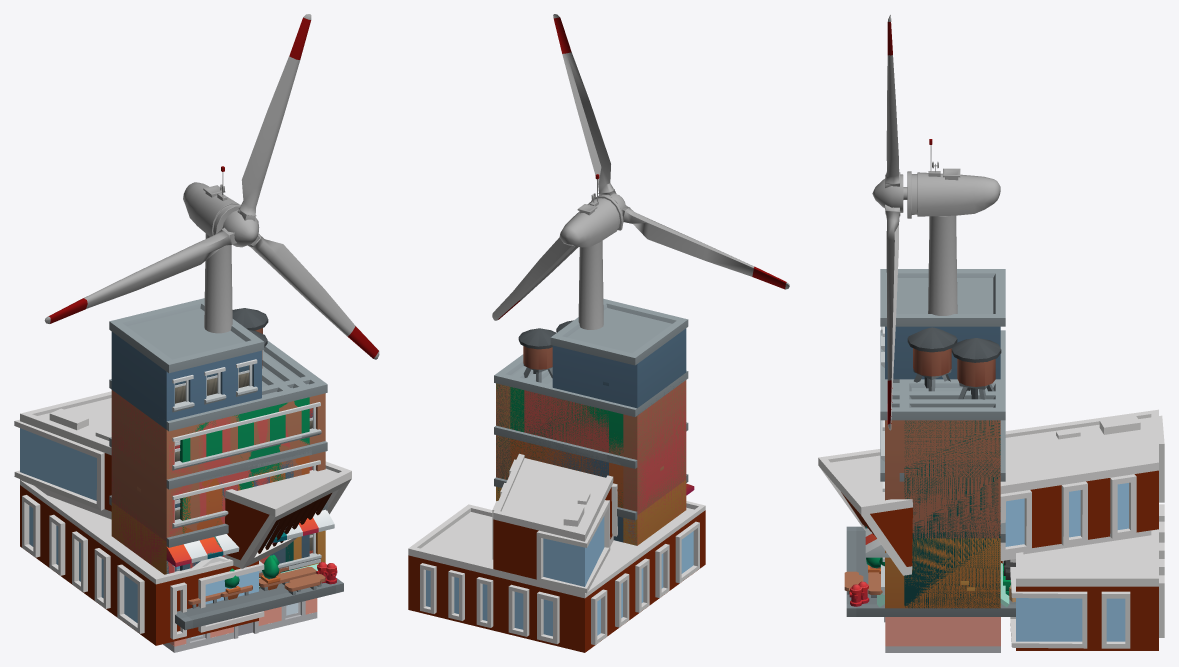
The model's file is buildings.glb.
The picture shows the model from 3 angles, left to right: view 1: azimuth 30°, elevation 25°; view 2: azimuth 150°, elevation 25°; view 3: azimuth 270°, elevation 25°; orthographic projection. The views are drawn at different scales.
Parts seen in each view (by area): view 1: Library_large, building_E, building_H, Wind_turbine_001_Blades, building_F, building_D, building_A, Wind_turbine_001, building_C, building_B, house_type01, building_G; view 2: Library_large, building_H, building_E, Wind_turbine_001_Blades, building_F, Wind_turbine_001, building_C, building_D, building_B, building_G, building_A; view 3: Library_large, building_E, building_G, building_H, Wind_turbine_001, house_type01, Wind_turbine_001_Blades, building_D, building_A, building_C, building_F.
Boxes of the visible parts, box(x1,y1,x2,y2) form: Library_large: box(14, 391, 351, 645); building_E: box(109, 341, 334, 574); building_H: box(109, 298, 325, 591); Wind_turbine_001_Blades: box(44, 14, 379, 359); building_F: box(110, 342, 327, 608); building_D: box(180, 330, 320, 595); building_A: box(175, 457, 343, 630); Wind_turbine_001: box(183, 166, 240, 333); building_C: box(199, 368, 295, 568); building_B: box(180, 449, 311, 600); house_type01: box(163, 563, 318, 652); building_G: box(166, 342, 337, 584); Library_large: box(408, 453, 705, 652); building_H: box(495, 298, 688, 520); building_E: box(494, 354, 694, 545); Wind_turbine_001_Blades: box(492, 14, 789, 320); building_F: box(494, 361, 686, 545); Wind_turbine_001: box(559, 174, 623, 329); building_C: box(522, 369, 608, 461); building_D: box(508, 320, 623, 507); building_B: box(509, 430, 623, 542); building_G: box(494, 362, 636, 542); building_A: box(522, 435, 608, 477); Library_large: box(818, 409, 1164, 650); building_E: box(865, 330, 1015, 608); building_G: box(849, 345, 1005, 608); building_H: box(849, 269, 1015, 602); Wind_turbine_001: box(907, 139, 1000, 315); house_type01: box(877, 563, 1009, 652); Wind_turbine_001_Blades: box(872, 15, 907, 430); building_D: box(844, 327, 1005, 594); building_A: box(846, 526, 1015, 616); building_C: box(880, 346, 1005, 570); building_F: box(866, 331, 1005, 597).
Size of the model in its own units: 4.21 by 7.27 by 3.59.
19 materials, 3 textured.
